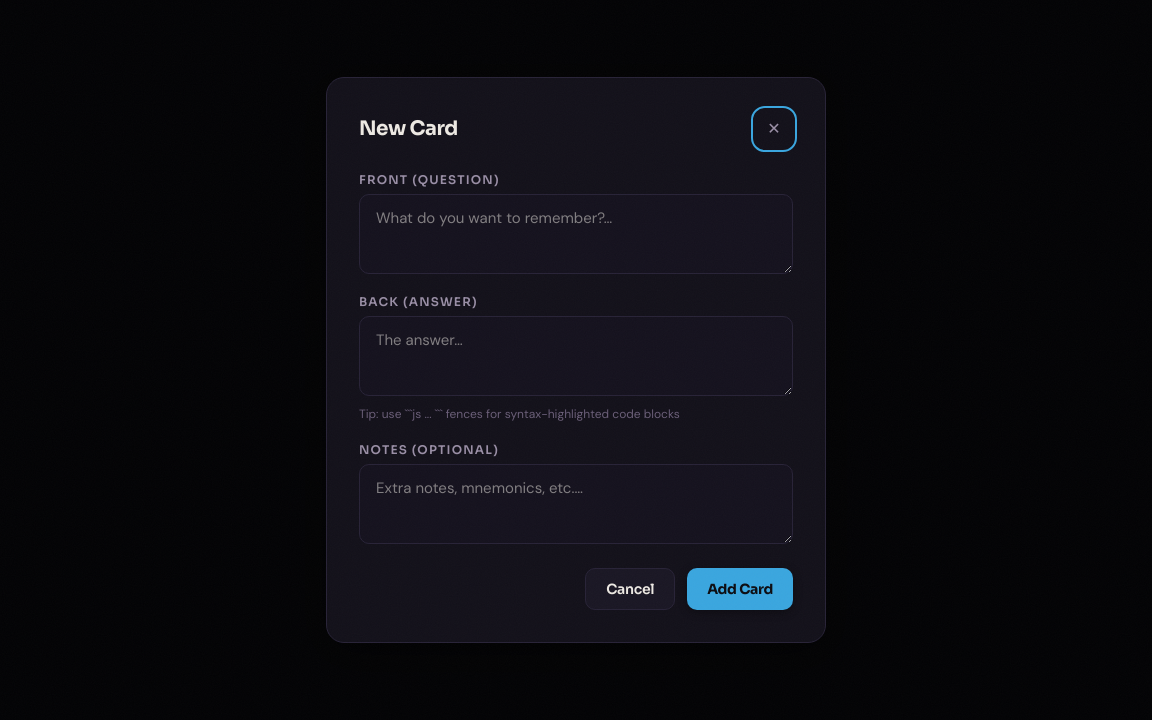
it: CardModal › disables submit button while saving
The width and height of the screenshot is (1152, 720).
Type "Q1" into the text box labelled "Front (Question)" at coordinates (576, 234), box [359,194,793,274]
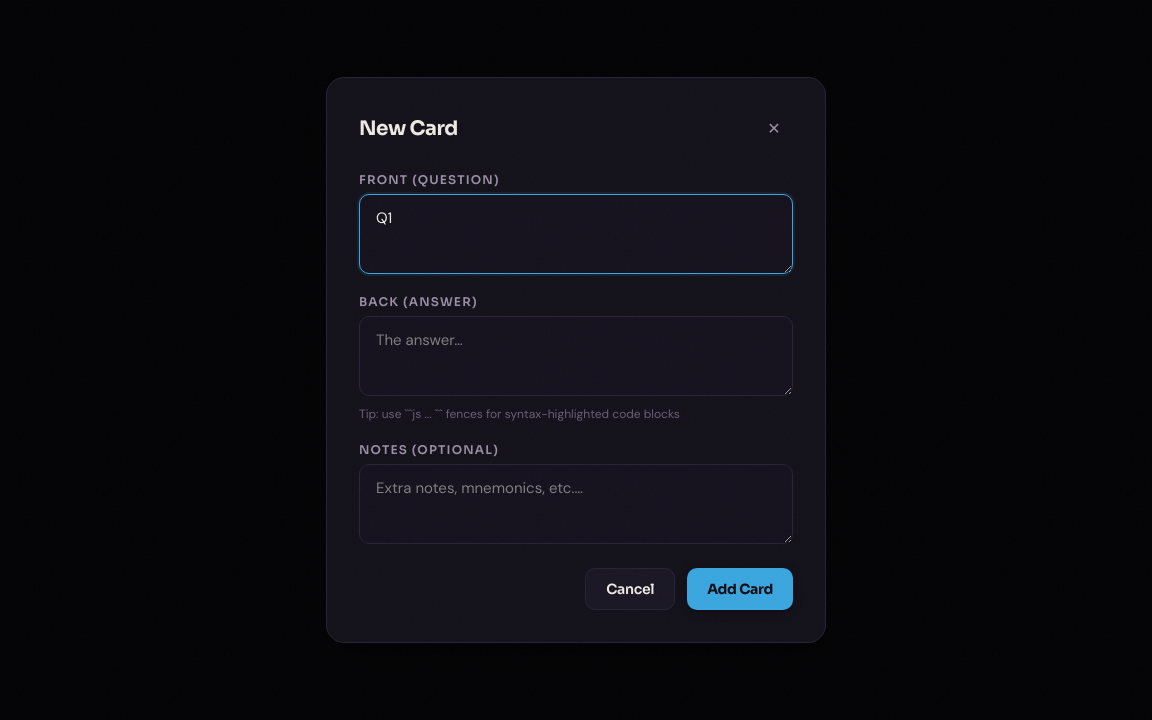
Type "A1" into the text box labelled "Back (Answer)" at coordinates (576, 356), box [359,316,793,396]
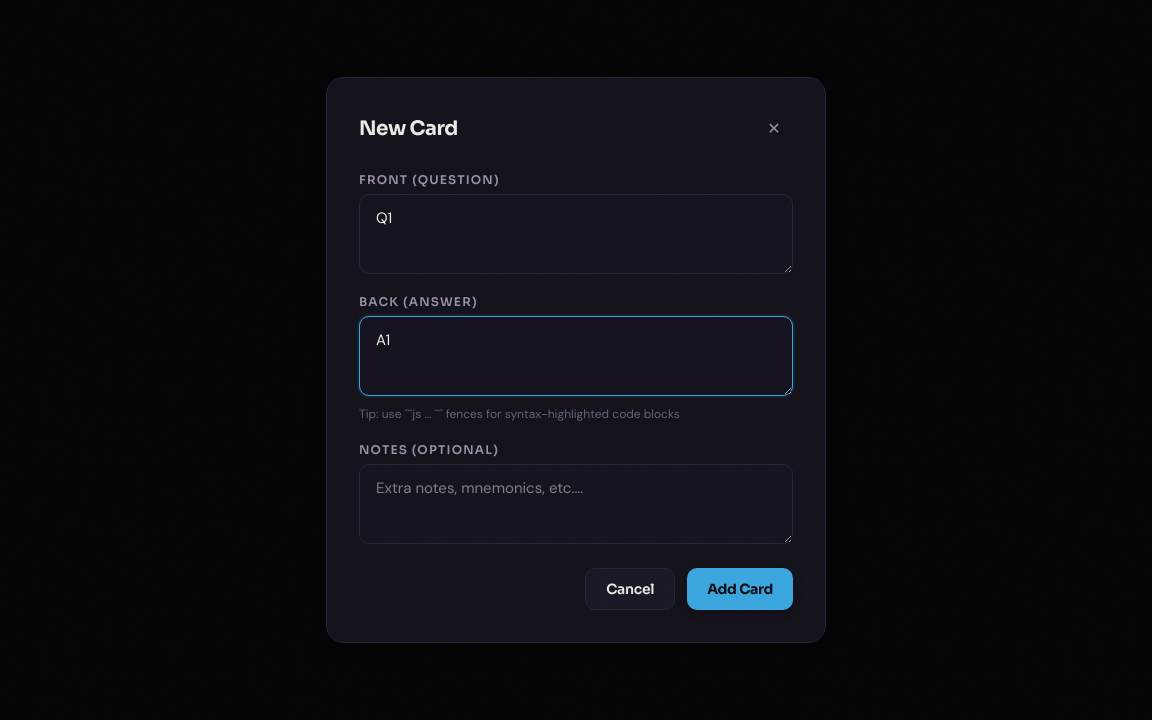
Click the button "Add Card" at coordinates (740, 589), box [687,568,793,610]
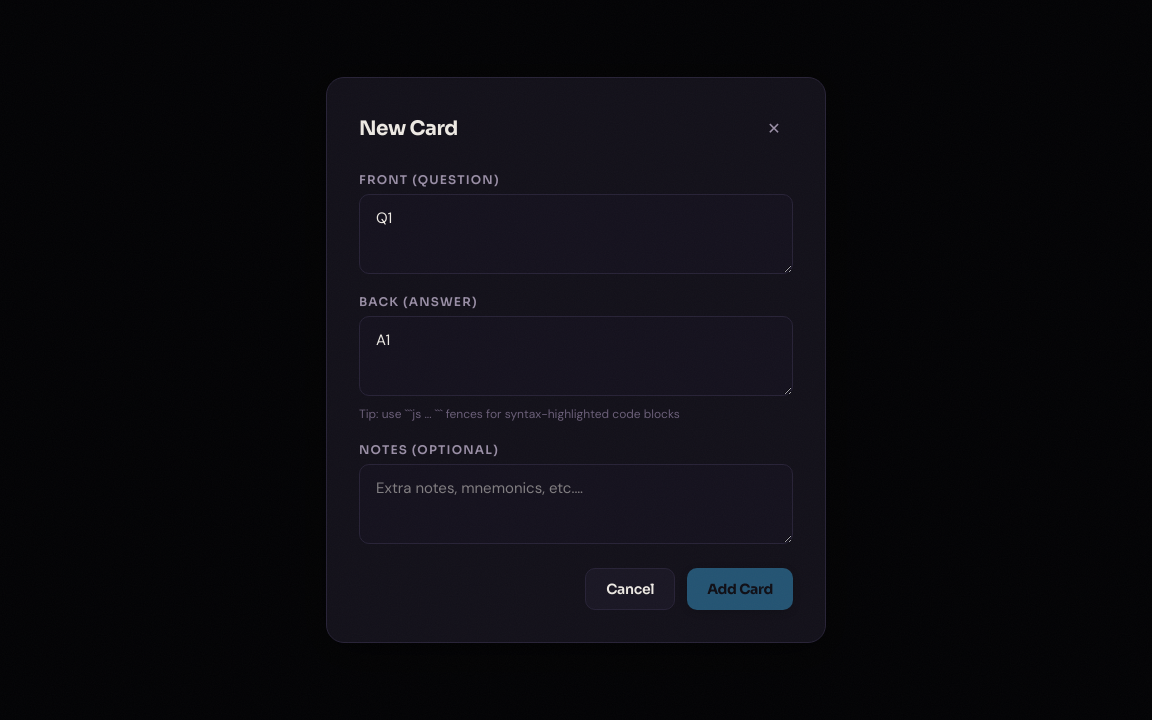
Now the button "Add Card" is disabled, box [687,568,793,610]
